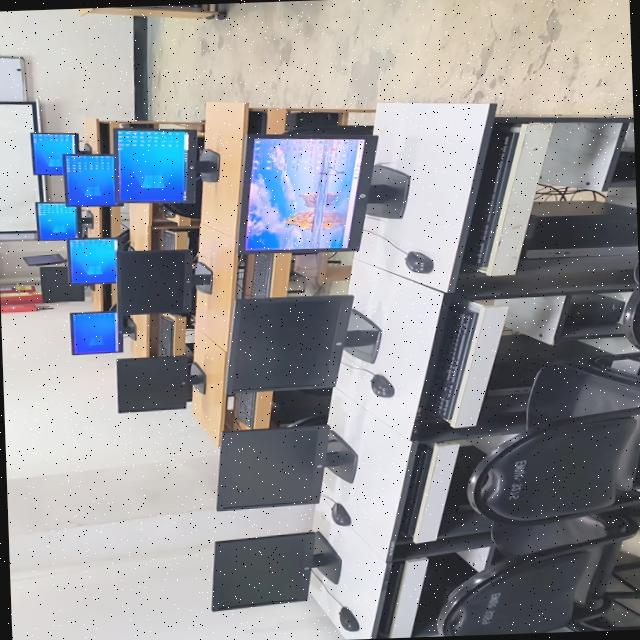Chair: (438, 509, 640, 636), (473, 407, 640, 522), (620, 255, 640, 349)
Cpu: (478, 332, 605, 425), (523, 201, 638, 257)
Fire Extinguisher: (0, 290, 41, 306), (0, 284, 35, 293)
Keyboard: (462, 131, 517, 269), (426, 306, 477, 419), (239, 254, 272, 297), (156, 314, 187, 355), (233, 391, 255, 427), (157, 231, 187, 248)
Monitor: (225, 294, 379, 393), (241, 135, 365, 251), (216, 424, 356, 510), (210, 531, 340, 611), (115, 249, 211, 316), (115, 344, 204, 412), (114, 129, 196, 202), (61, 155, 117, 206), (66, 237, 122, 283), (68, 311, 121, 354), (33, 202, 90, 240), (29, 133, 76, 174), (39, 266, 83, 302), (21, 253, 65, 266)
Mouse: (403, 251, 432, 273), (369, 374, 393, 397), (337, 606, 358, 630), (330, 502, 349, 525)
